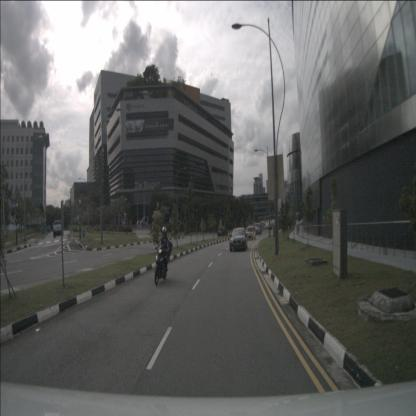vehicle-car: (230, 228, 248, 252), (52, 221, 64, 238), (245, 226, 256, 240), (217, 226, 228, 237), (254, 224, 262, 235), (268, 223, 273, 230)
vehicle-motorcycle: (155, 226, 172, 284)
